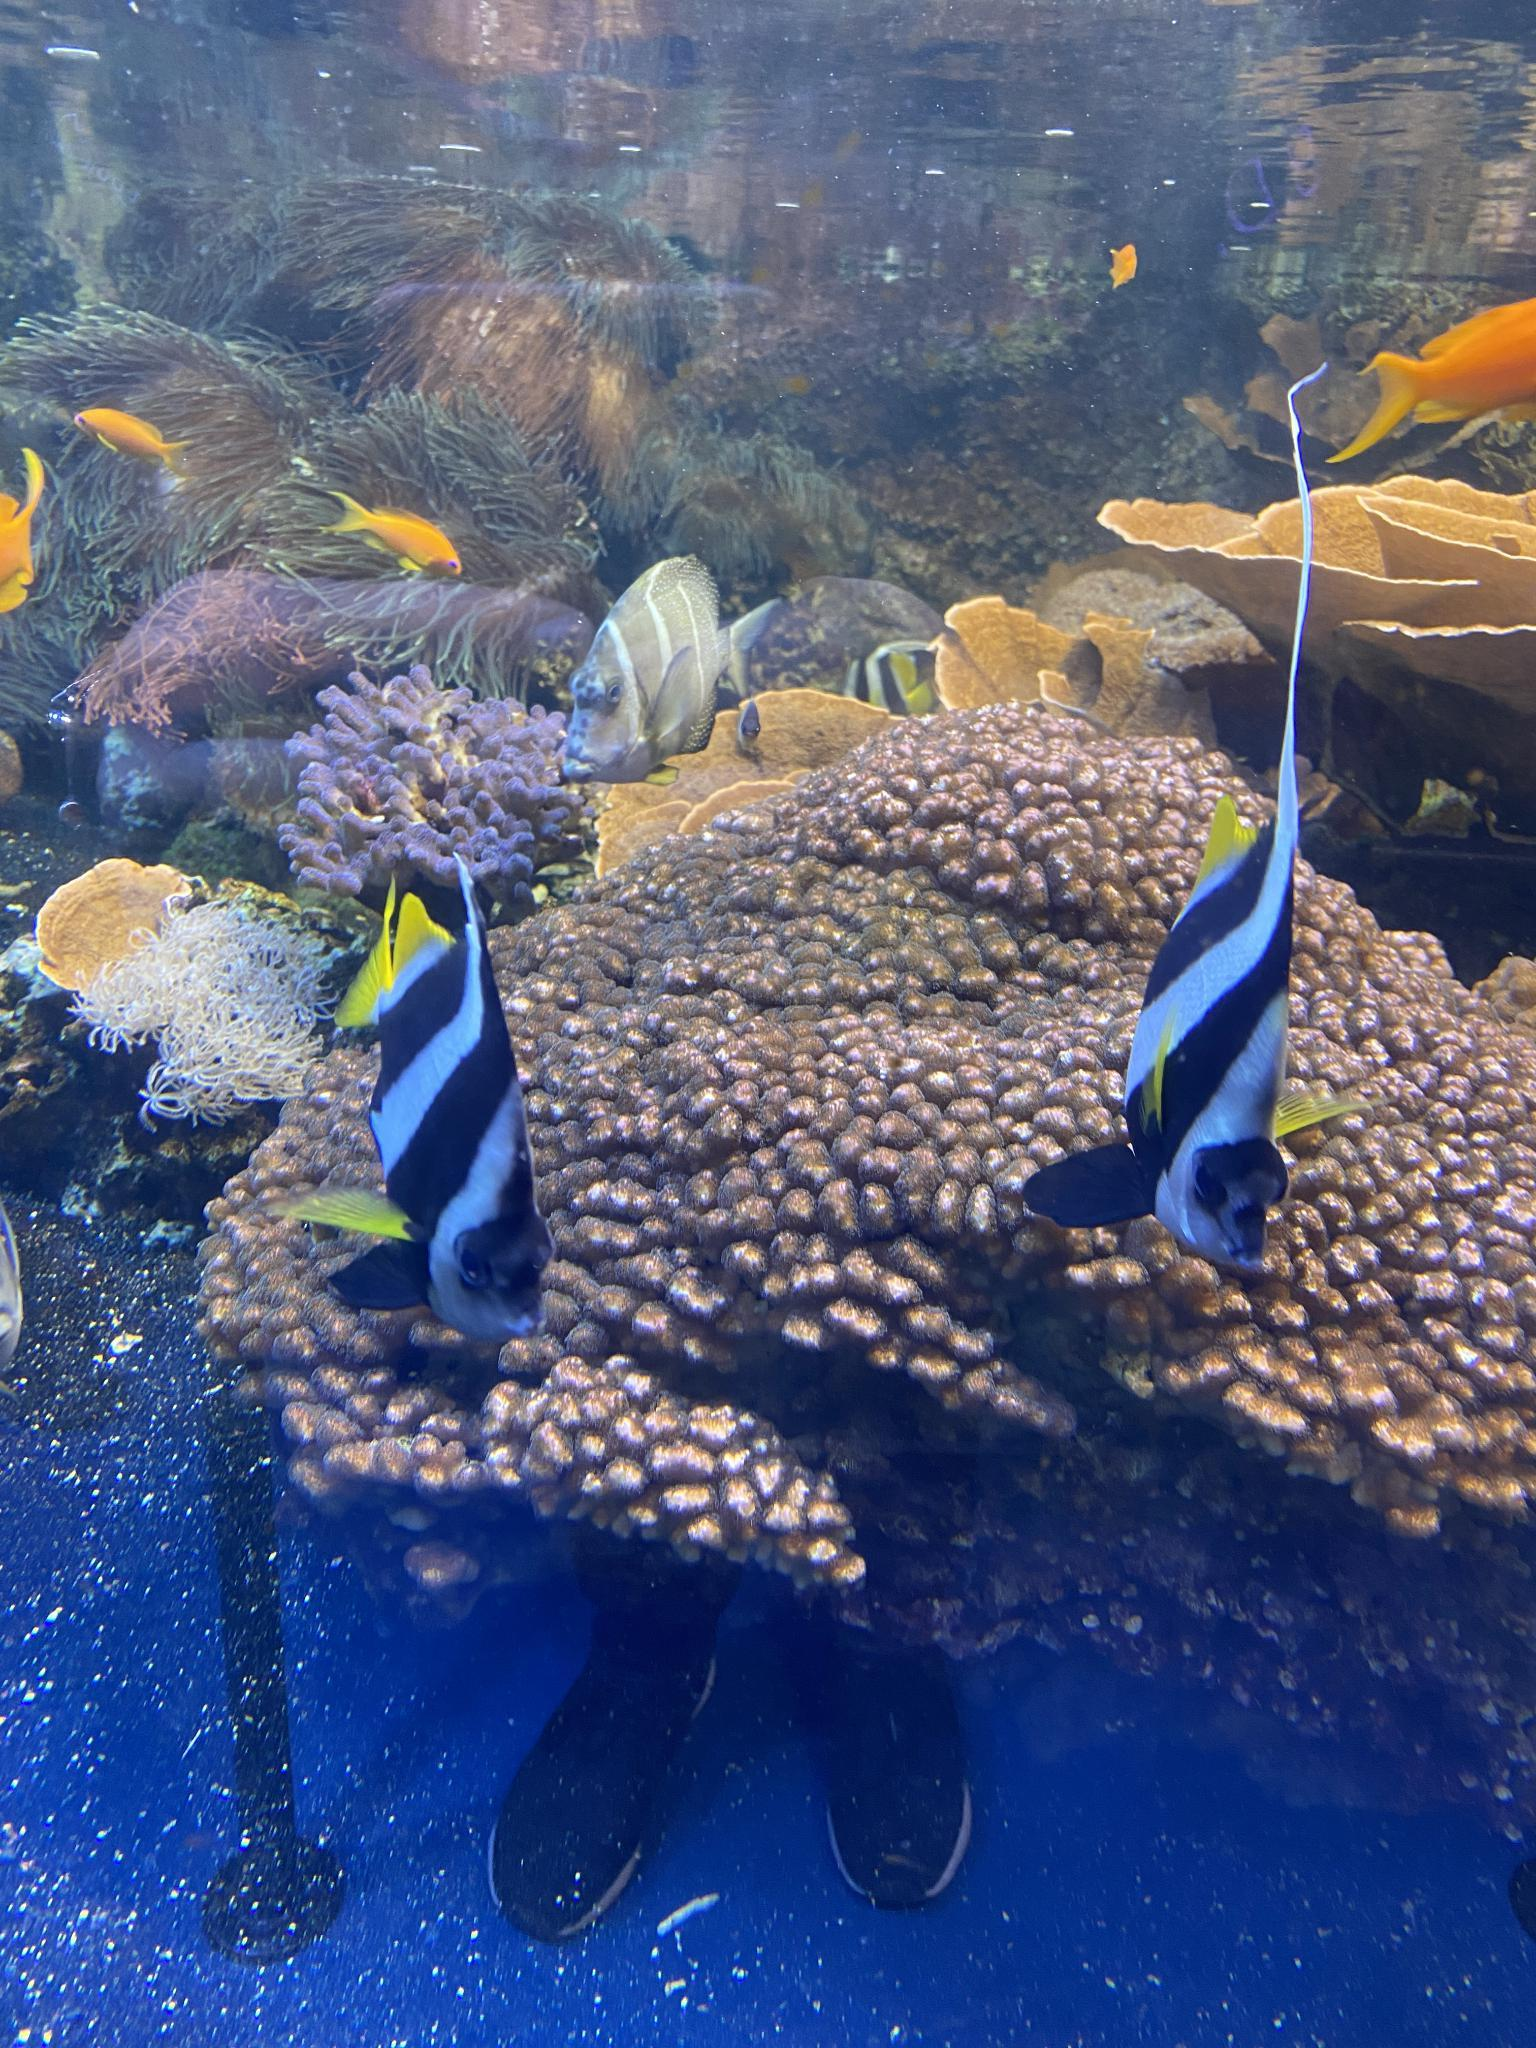fish: (1025, 797, 1342, 1276), (279, 872, 549, 1338), (570, 552, 773, 768), (1326, 292, 1534, 460), (319, 487, 457, 581), (850, 637, 941, 714), (0, 447, 42, 606), (71, 410, 176, 463), (1105, 239, 1134, 285)
